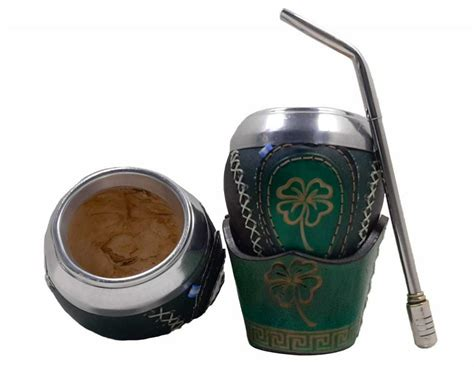cuero: (223, 146, 390, 355)
